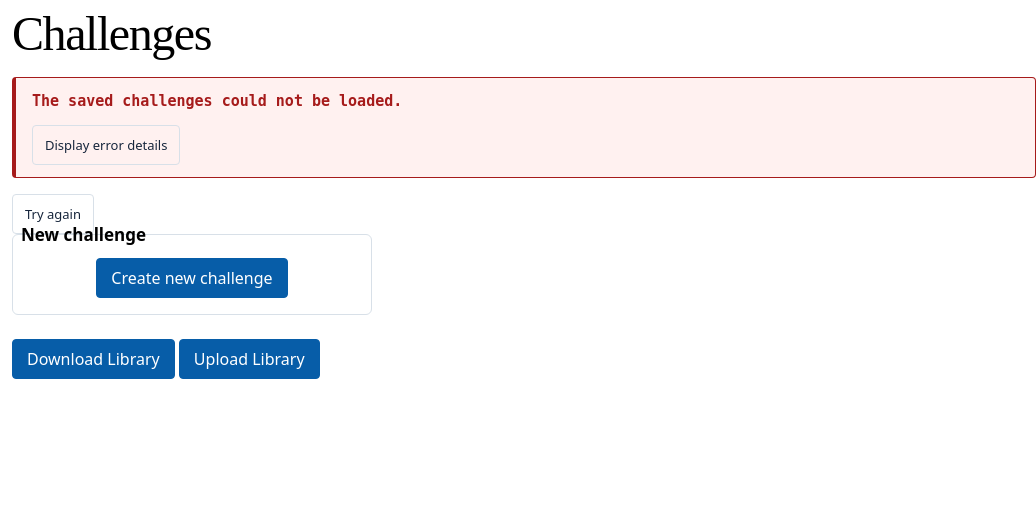
Test: challenge hub › shows a recoverable error when the library download fails
What coordinates should you click on to do the following:
click the button "Download Library"
I would click on:
 (93, 359)
Its box is [12,339,175,379].
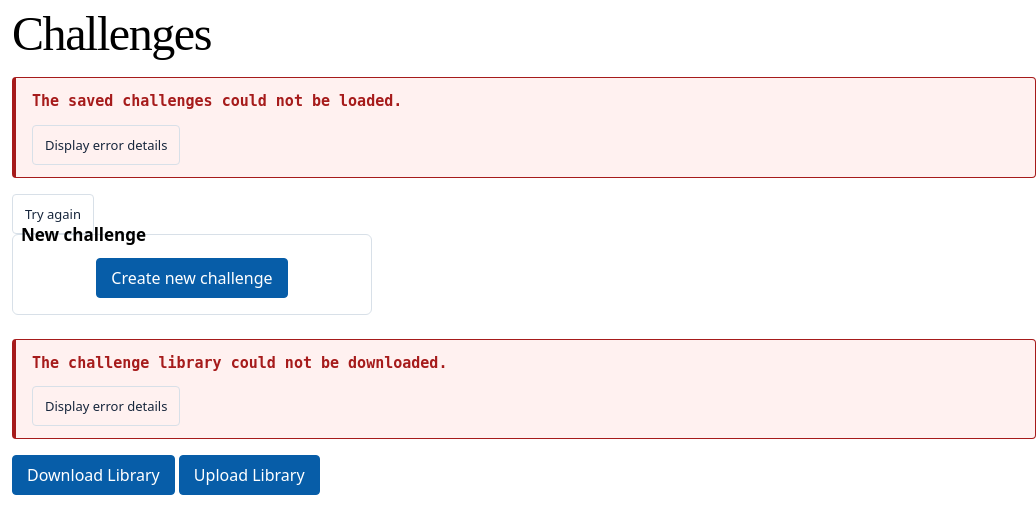
Result: the text "The challenge library could not be downloaded." is shown at [32,354,447,372]
